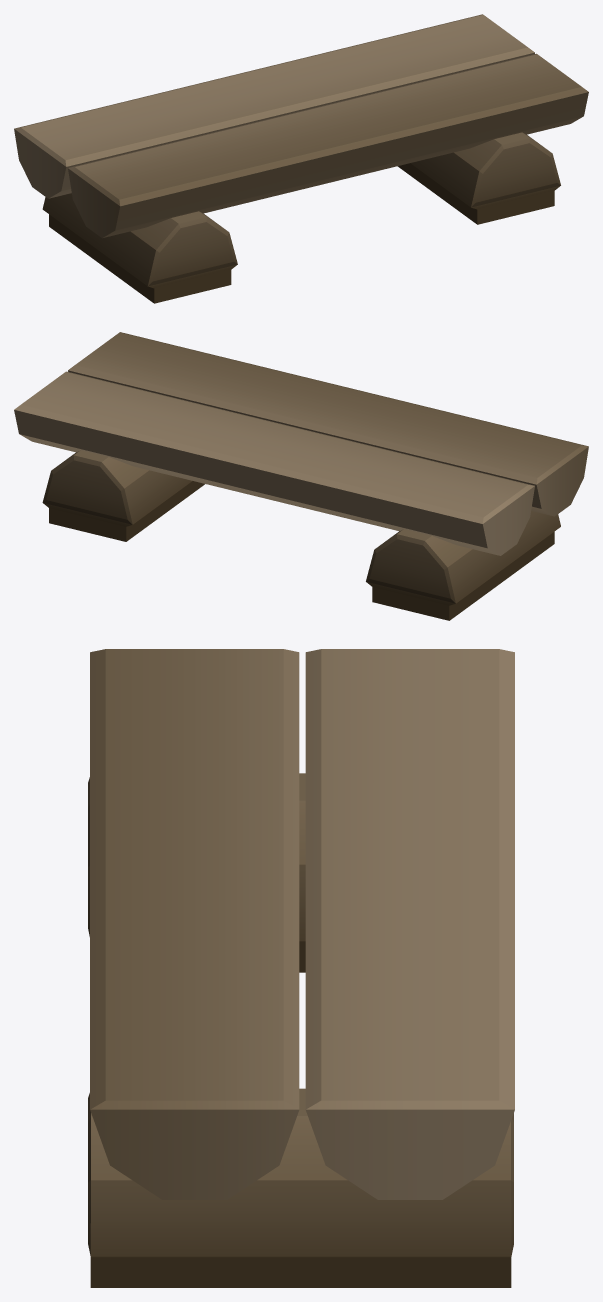
File: Bench.fbx
The picture shows the model from 3 angles, top to bottom: view 1: azimuth 30°, elevation 25°; view 2: azimuth 150°, elevation 25°; view 3: azimuth 270°, elevation 25°; orthographic projection. The views are drawn at different scales.
Visible parts, largest first — view 1: Bench; view 2: Bench; view 3: Bench.
Part boxes in pixels (box(x1,y1,x2,y2)): Bench: box(14, 14, 588, 303); Bench: box(14, 332, 588, 620); Bench: box(88, 649, 514, 1287).
Bounding box in the file's own units: 3.29 × 0.7308 × 1.3.
Materials: 1 (1 with a texture image).
